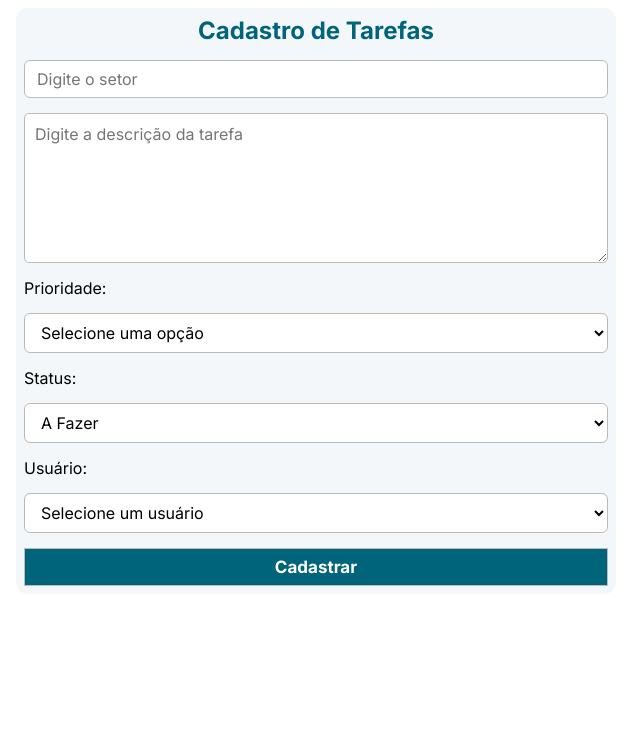
Cadastro de tarefas › deve mostrar erro quando houver letras repetidas mais de 2x seguidas
The width and height of the screenshot is (633, 751).
Type "Oiii tudo bem?" into the text box with placeholder "Digite a descrição da tarefa".
click(316, 188); type("Oiii tudo bem?")  # box [24, 113, 608, 263]
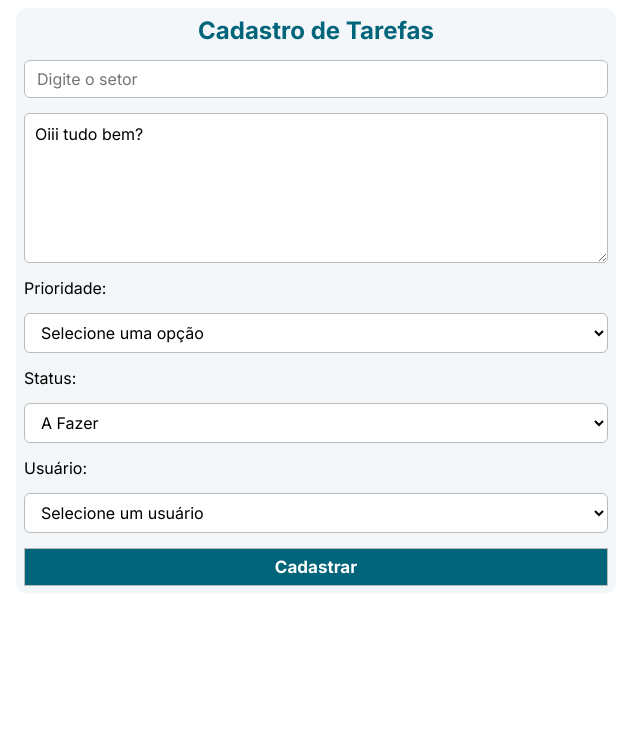
Click the button "Cadastrar".
click(316, 567)  # box [24, 548, 608, 586]
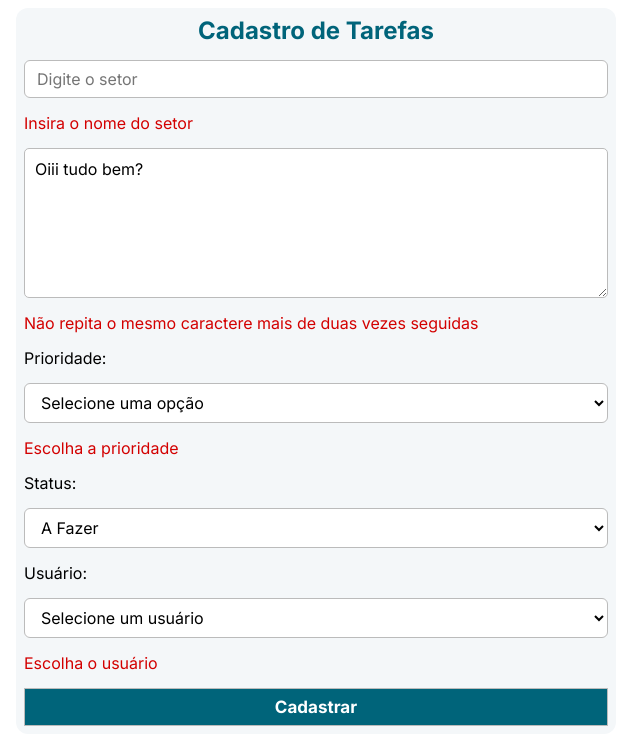
expect the text "Não repita o mesmo caractere mais de duas vezes seguidas" is shown: met, box [24, 313, 478, 333]
